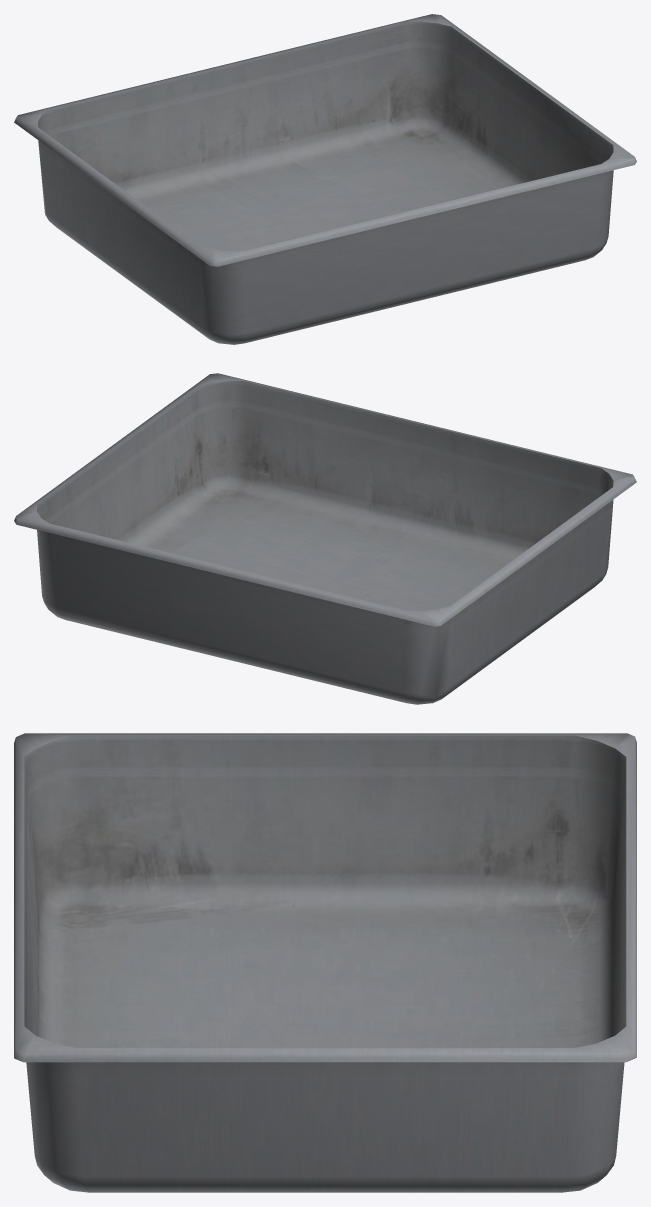
The model's file is SM_Hotel_Pan150_2_1_01.glb.
3 views of the same model, one above another, from view 1: azimuth 30°, elevation 25°; view 2: azimuth 150°, elevation 25°; view 3: azimuth 270°, elevation 25° (orthographic). The views are drawn at different scales.
Parts seen in each view (by area): view 1: SM_Hotel_Pan150_2_1_01; view 2: SM_Hotel_Pan150_2_1_01; view 3: SM_Hotel_Pan150_2_1_01.
Part boxes in pixels (bbox=[...]): SM_Hotel_Pan150_2_1_01: bbox=[14, 14, 636, 344]; SM_Hotel_Pan150_2_1_01: bbox=[14, 373, 636, 704]; SM_Hotel_Pan150_2_1_01: bbox=[14, 733, 636, 1192].
Size of the model in its own units: 0.6498 by 0.1492 by 0.5302.
1 material, 1 textured.
